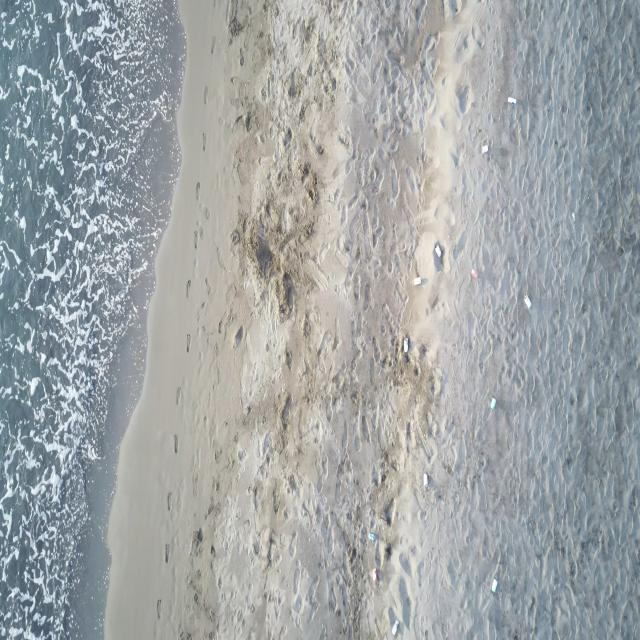Garbage: (433, 241, 443, 271), (369, 568, 377, 583), (433, 243, 442, 256), (392, 619, 399, 635), (524, 295, 531, 307), (368, 532, 376, 542), (412, 276, 422, 284), (491, 577, 496, 592), (480, 144, 487, 154), (488, 397, 495, 407), (471, 268, 477, 279), (403, 336, 407, 352), (423, 472, 427, 487), (507, 96, 515, 103)
